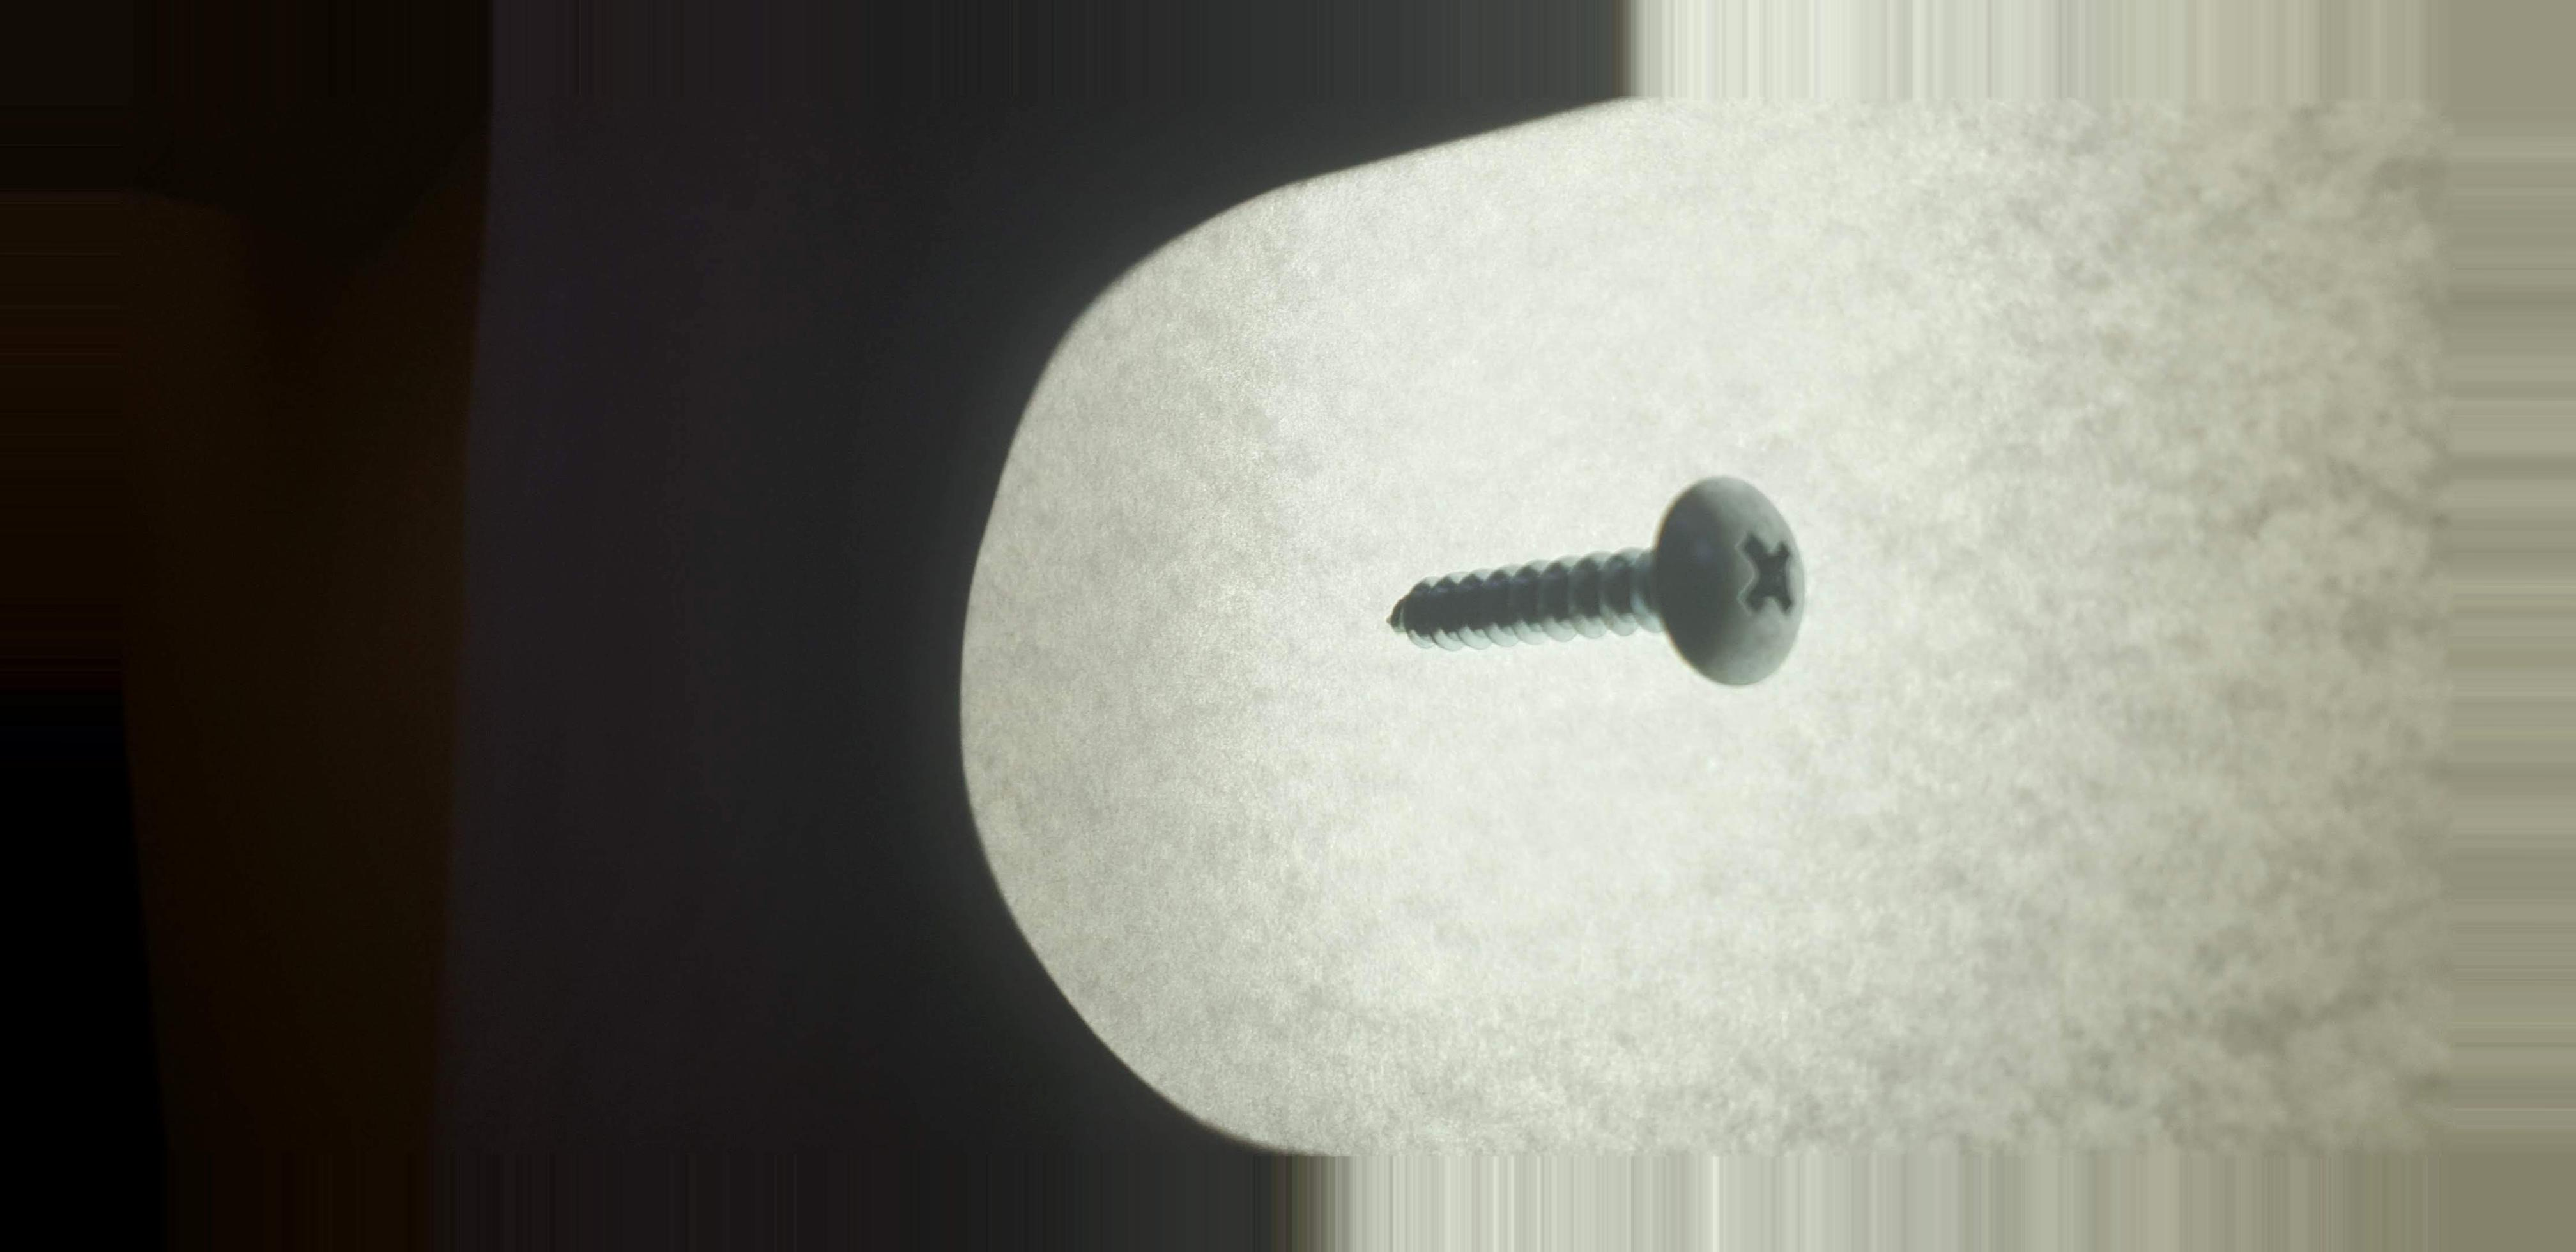S002: (1341, 455, 1879, 723)
